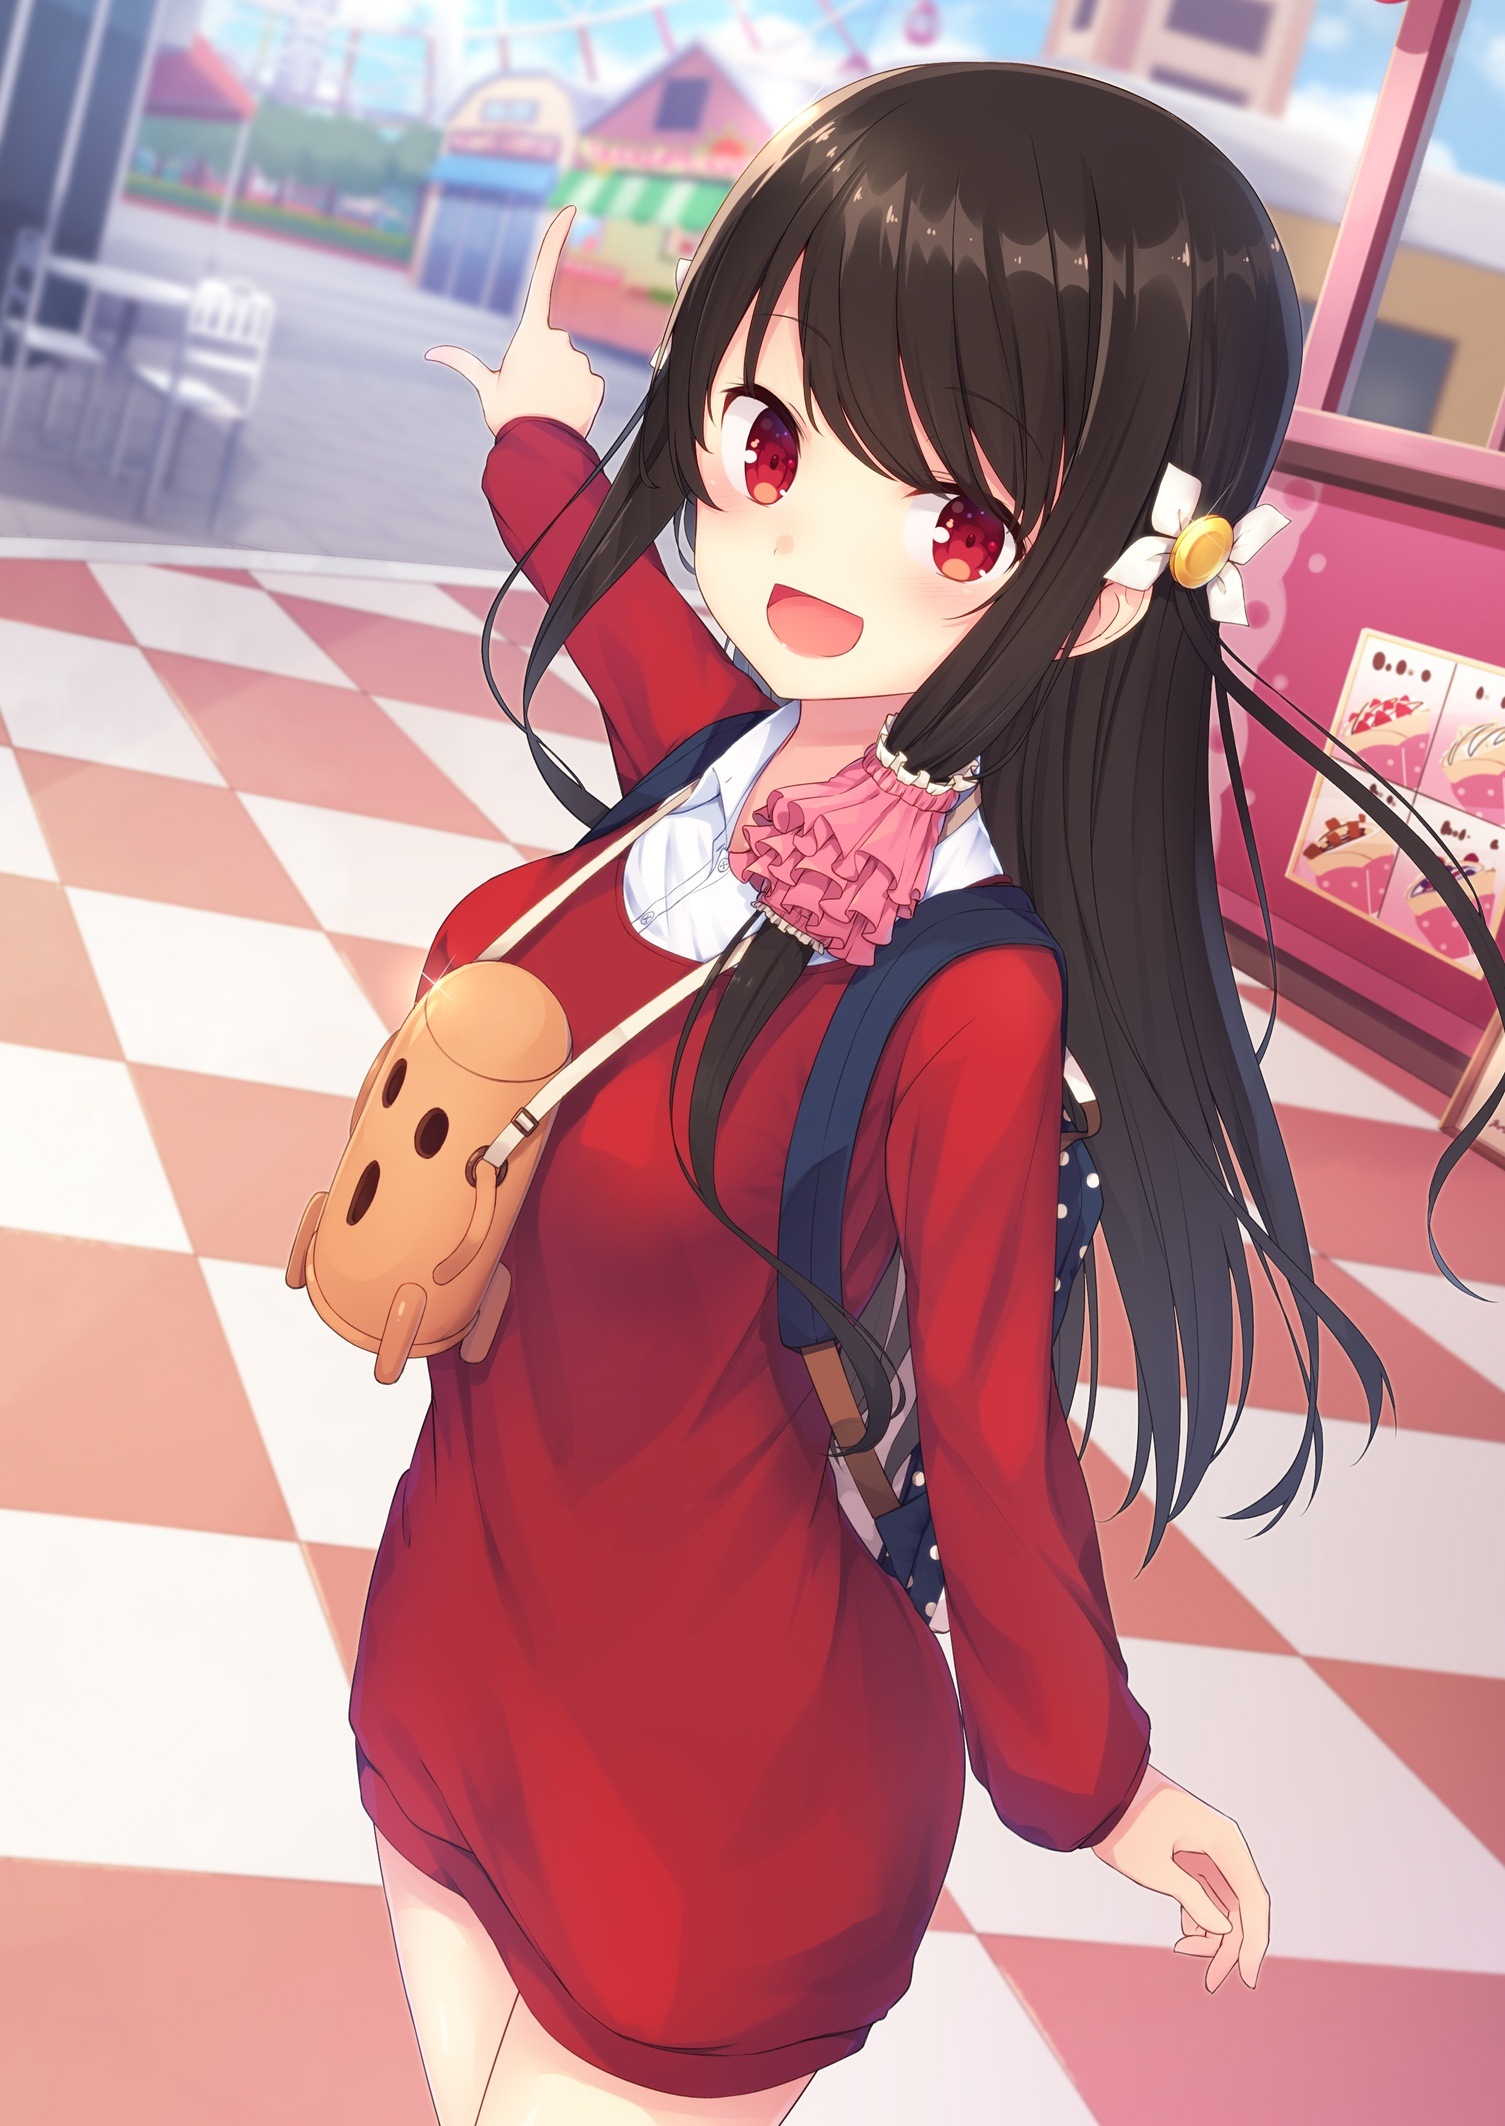纸片人正脸: (611, 52, 1300, 718)
